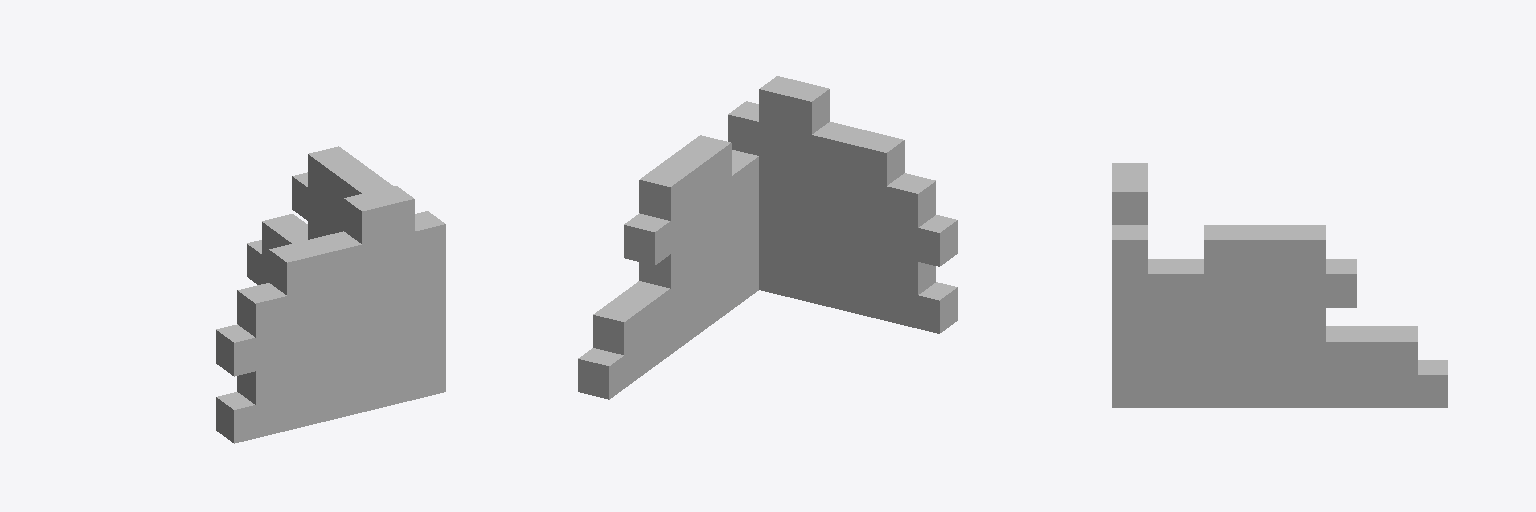
Rendered from sciana_3.2.obj.
3 renders of one model, left to right at view 1: azimuth 30°, elevation 25°; view 2: azimuth 150°, elevation 25°; view 3: azimuth 270°, elevation 25°, orthographic.
Visible parts, largest first — view 1: Vert.005; view 2: Vert.005; view 3: Vert.005.
Part boxes in pixels (bbox=[...]): Vert.005: bbox=[216, 146, 445, 443]; Vert.005: bbox=[578, 76, 957, 399]; Vert.005: bbox=[1112, 163, 1447, 407].
Size of the model in its own units: 14.08 by 12.77 by 19.34.